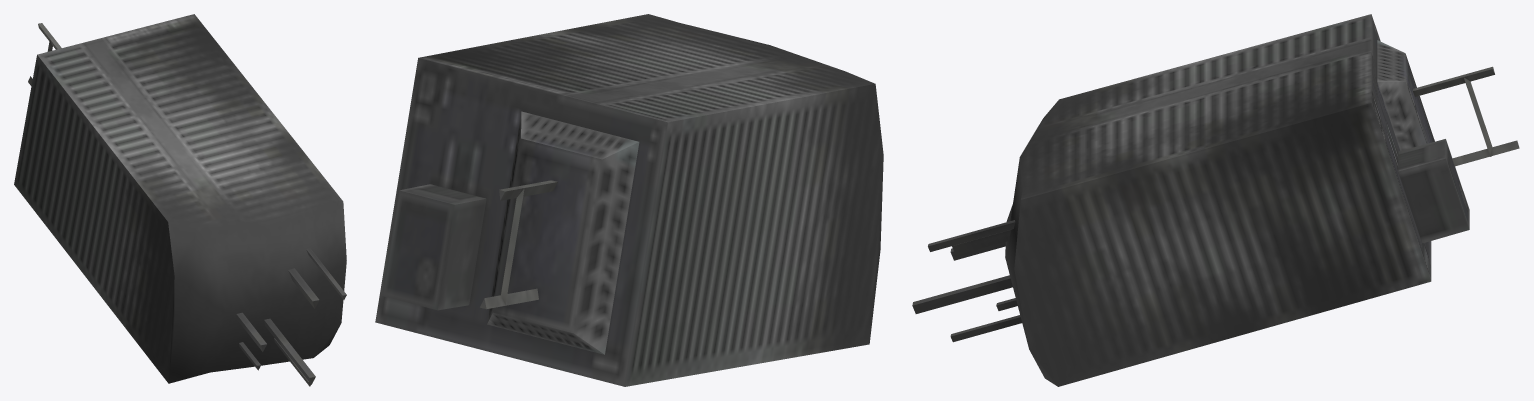
The model's file is skyBuildingAAC_pos_grp (6).fbx.
The picture shows the model from 3 angles, left to right: view 1: azimuth 30°, elevation 25°; view 2: azimuth 150°, elevation 25°; view 3: azimuth 270°, elevation 25°; orthographic projection. The views are drawn at different scales.
Visible parts, largest first — view 1: skyBuildingAAC_geo; view 2: skyBuildingAAC_geo; view 3: skyBuildingAAC_geo.
Boxes of the visible parts, x1,y1,x2,y2 form: skyBuildingAAC_geo: (14, 14, 346, 386); skyBuildingAAC_geo: (375, 14, 883, 386); skyBuildingAAC_geo: (912, 14, 1519, 386).
Bounding box in the file's own units: 3.22 × 4.57 × 8.79.
